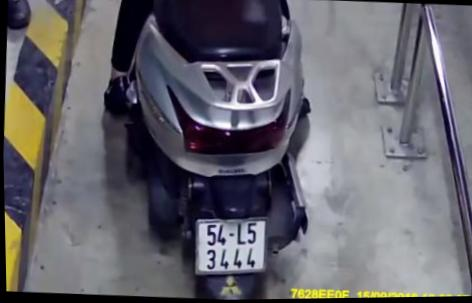LP: (188, 208, 271, 281)
